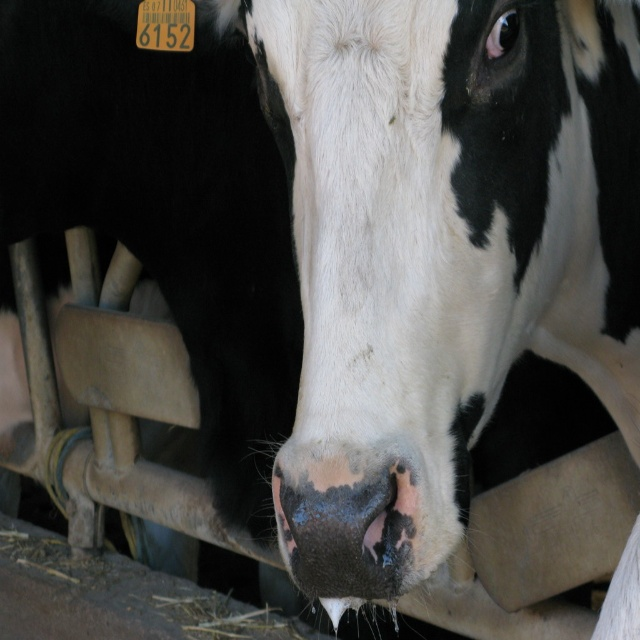Cattle: (197, 0, 640, 640)
